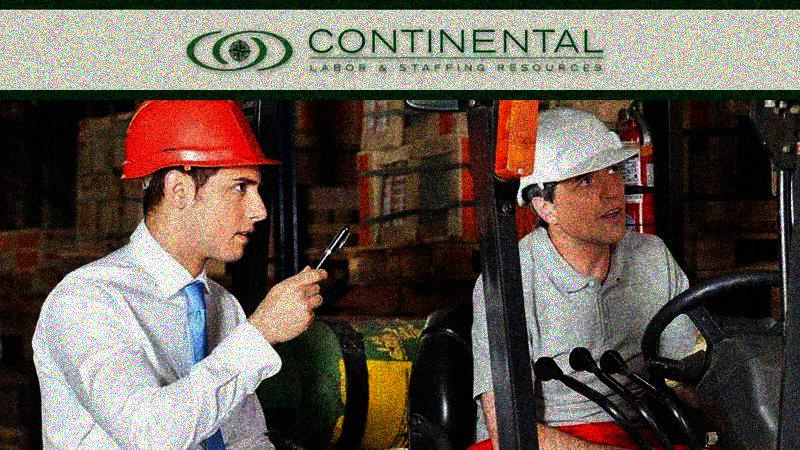helmet: (121, 100, 285, 263), (513, 104, 643, 244)
